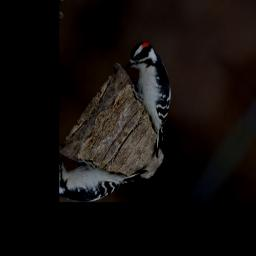Woodpecker: (93, 35, 206, 161)
